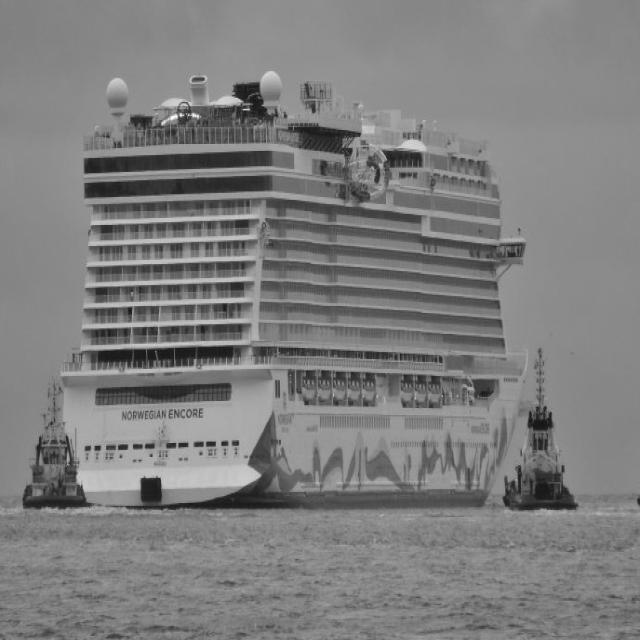cruises: (60, 34, 530, 514)
